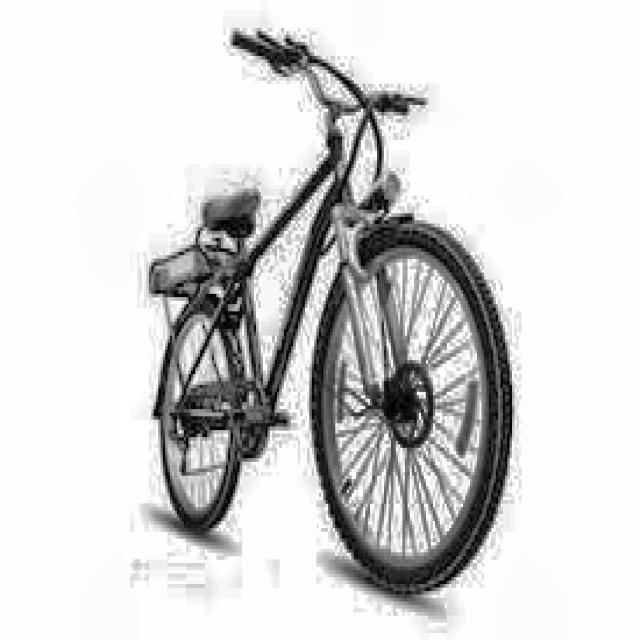bicycle: (142, 18, 516, 606)
